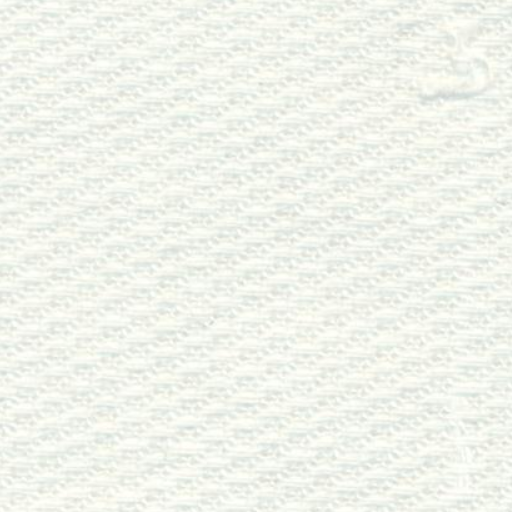DuanSha: (396, 6, 500, 107)
